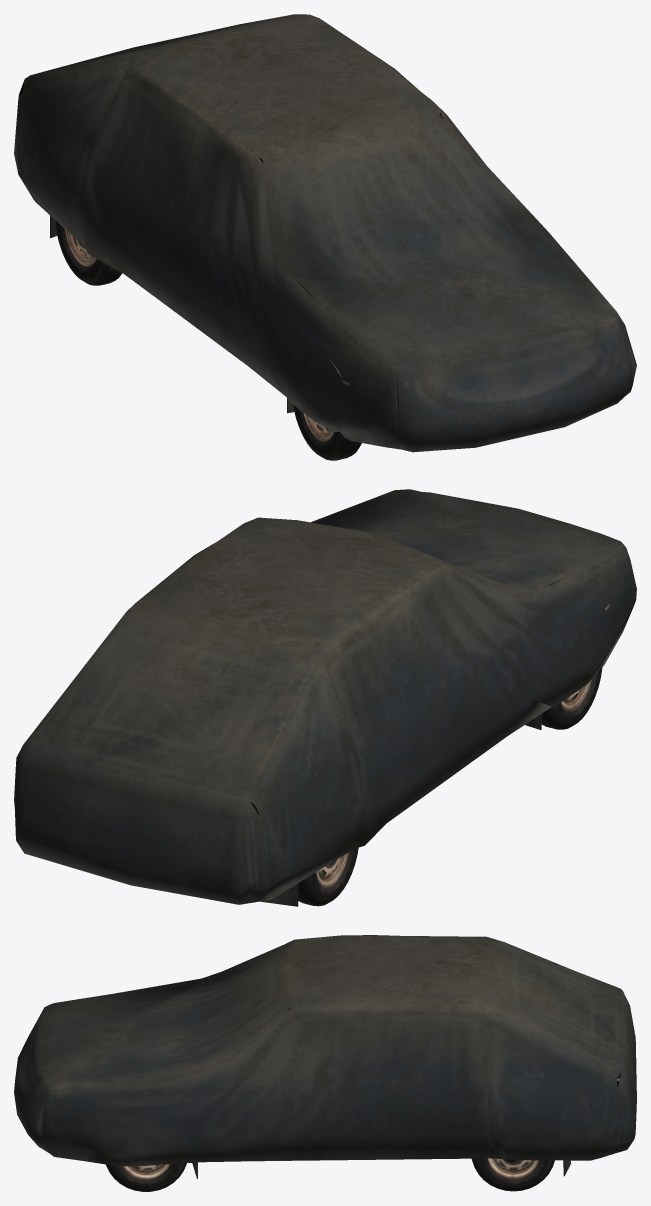
File: covered_car.glb
3 views of the same model, one above another, from view 1: azimuth 30°, elevation 25°; view 2: azimuth 150°, elevation 25°; view 3: azimuth 270°, elevation 25° (orthographic). The views are drawn at different scales.
Visible parts, largest first — view 1: covered_car, covered_car_wheel_03, covered_car_wheel_02; view 2: covered_car, covered_car_wheel_03, covered_car_wheel_02; view 3: covered_car, covered_car_wheel_04, covered_car_wheel_01.
Part boxes in pixels (x1,y1,x2,y2): covered_car: [14, 14, 636, 452]; covered_car_wheel_03: [55, 220, 122, 285]; covered_car_wheel_02: [293, 405, 361, 460]; covered_car: [14, 489, 636, 906]; covered_car_wheel_03: [298, 847, 358, 906]; covered_car_wheel_02: [541, 665, 602, 729]; covered_car: [14, 935, 636, 1178]; covered_car_wheel_04: [471, 1158, 554, 1191]; covered_car_wheel_01: [105, 1163, 186, 1191].
Size of the model in its own units: 1.79 by 1.41 by 4.38.
1 material, 1 textured.
